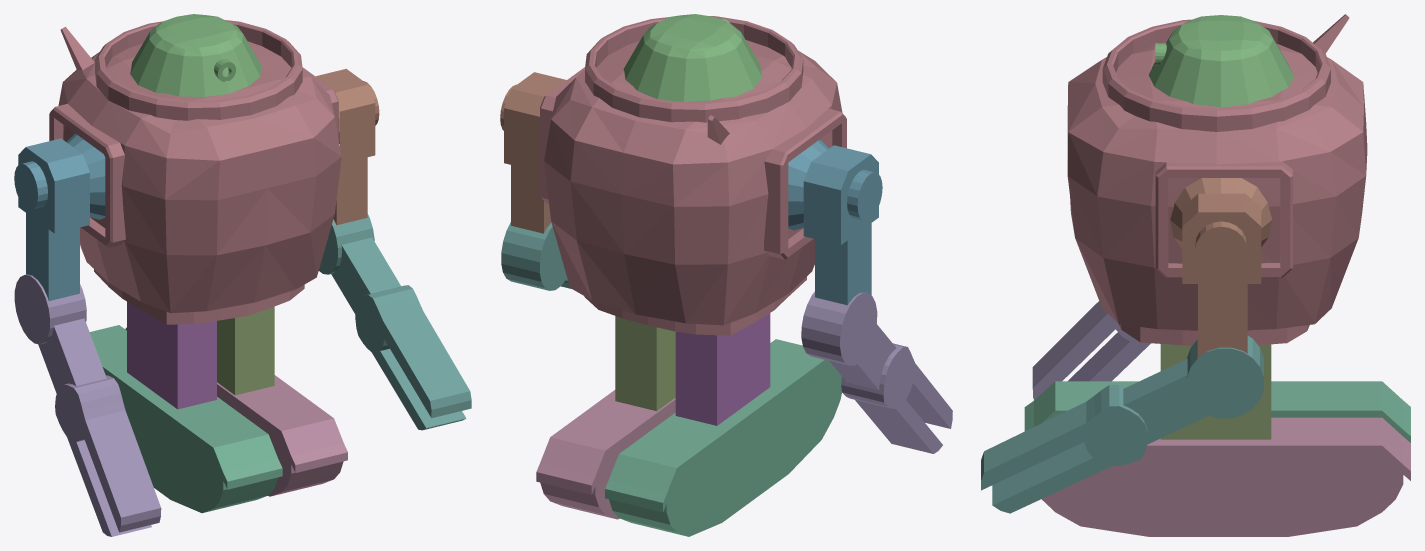
File: abdad363791d_seg.glb
The picture shows the model from 3 angles, left to right: view 1: azimuth 30°, elevation 25°; view 2: azimuth 150°, elevation 25°; view 3: azimuth 270°, elevation 25°; orthographic projection. The views are drawn at different scales.
Visible parts, largest first — view 1: p09, p06, p02, p05, p03, p00, p01, p08, p04, p07; view 2: p09, p02, p06, p03, p00, p01, p08, p04, p07, p05; view 3: p09, p01, p05, p04, p00, p02, p06, p07.
Part boxes in pixels (x1,y1,x2,y2): p09: [49, 20, 341, 324]; p06: [14, 274, 161, 536]; p02: [89, 325, 282, 513]; p05: [318, 214, 471, 430]; p03: [14, 133, 105, 300]; p00: [130, 14, 261, 96]; p01: [125, 327, 347, 496]; p08: [127, 301, 216, 409]; p04: [315, 68, 379, 225]; p07: [217, 306, 274, 395]; p09: [540, 16, 846, 335]; p02: [605, 339, 841, 536]; p06: [801, 291, 952, 453]; p03: [788, 140, 882, 305]; p00: [623, 14, 762, 101]; p01: [536, 390, 675, 519]; p08: [675, 313, 770, 425]; p04: [500, 72, 566, 233]; p07: [615, 316, 675, 411]; p05: [501, 222, 571, 290]; p09: [1067, 14, 1367, 345]; p01: [1042, 417, 1410, 536]; p05: [981, 335, 1263, 513]; p04: [1170, 178, 1272, 356]; p00: [1148, 15, 1294, 107]; p02: [1024, 381, 1410, 442]; p06: [1032, 301, 1150, 400]; p07: [1160, 344, 1271, 439].
Bounding box in the file's own units: 0.8242 × 1 × 0.8238.
